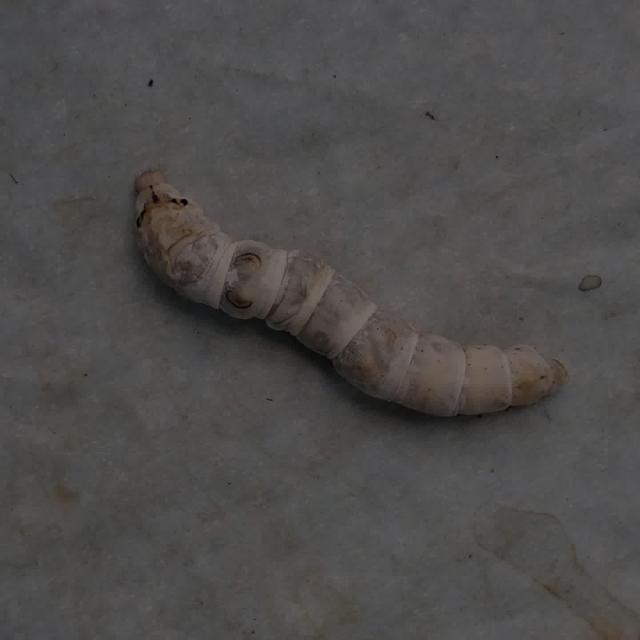Grasserie: (92, 156, 585, 449)
